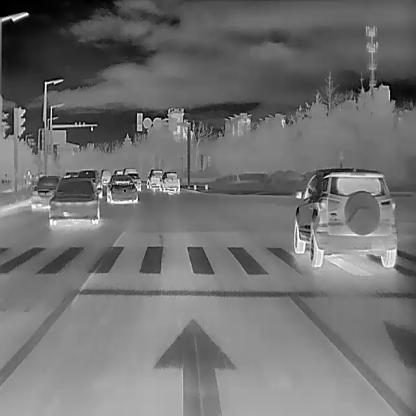car: (293, 161, 397, 267), (48, 176, 102, 224), (30, 174, 61, 209), (106, 174, 138, 203), (75, 169, 102, 197), (158, 172, 180, 192), (146, 167, 162, 188), (126, 171, 141, 191)
